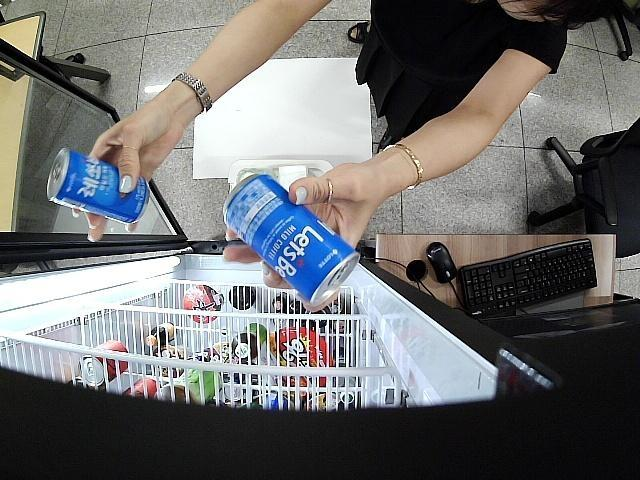15_letsbe: (222, 172, 361, 306), (47, 145, 151, 226)
